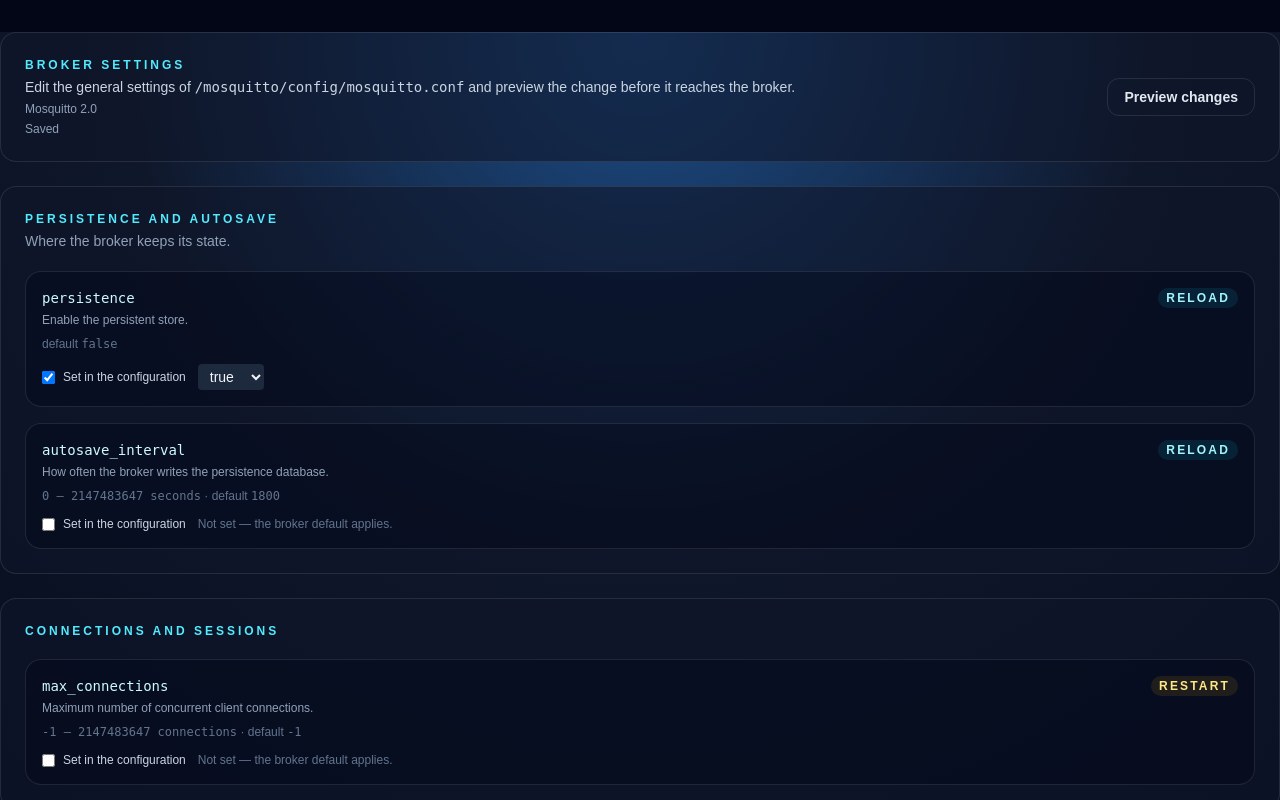
Test: SettingsPanel › shows the current value and the broker default for a directive that is not set
expect the text "Persistence and autosave" is shown: met, box left=25, top=212, right=279, bottom=226
expect the text "Not set — the broker default applies." below "0 – 2147483647 seconds" is shown: met, box left=198, top=517, right=393, bottom=531
What coordinates should you click on to do the following:
click the checkbox named "Set autosave_interval"
I would click on:
 (48, 524)
Its box is left=42, top=518, right=55, bottom=530.
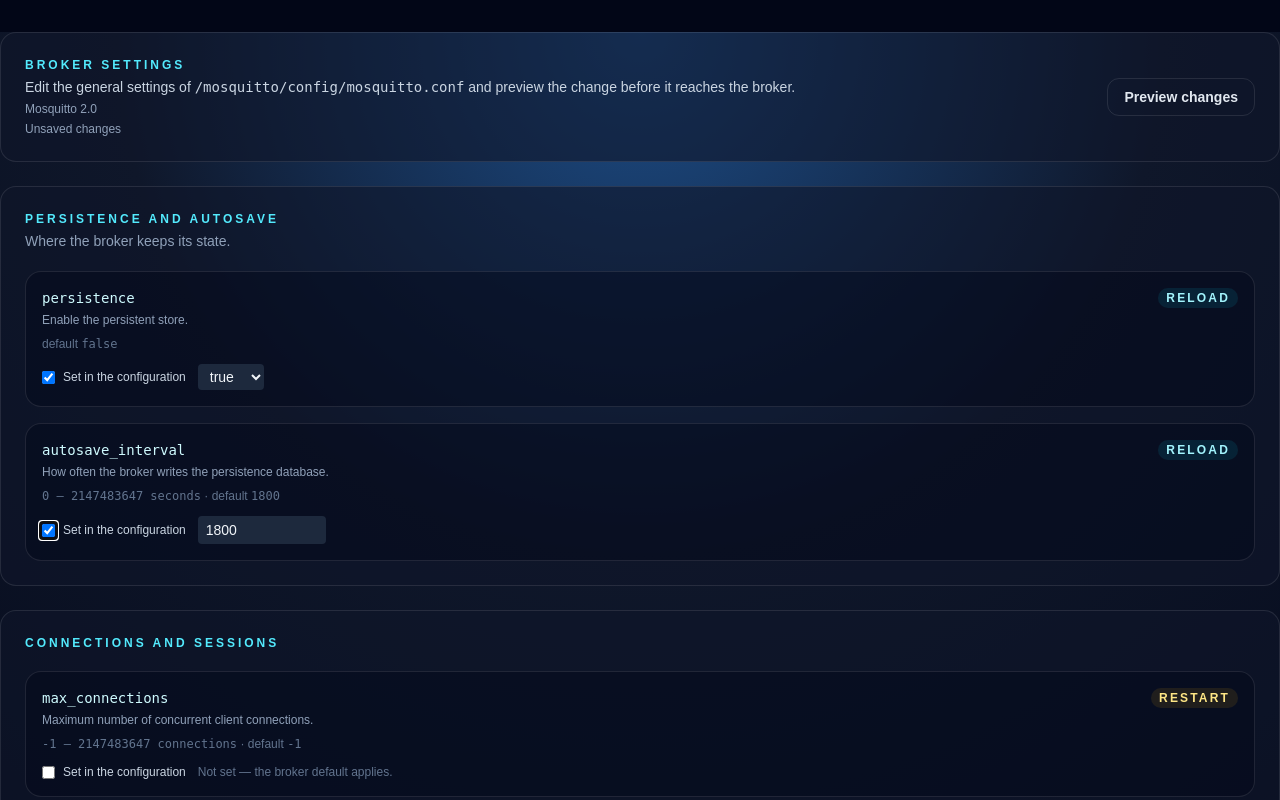
expect the number field named "autosave_interval value" holds "1800": met, box left=198, top=516, right=326, bottom=544
